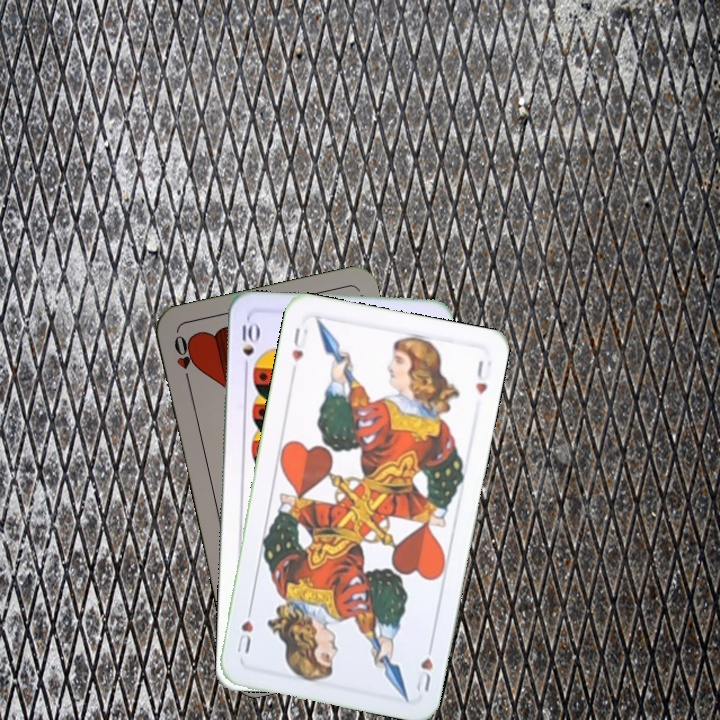HO: (170, 331, 197, 389)
HU: (412, 638, 436, 696), (287, 322, 310, 365)
S10: (238, 316, 260, 375)
